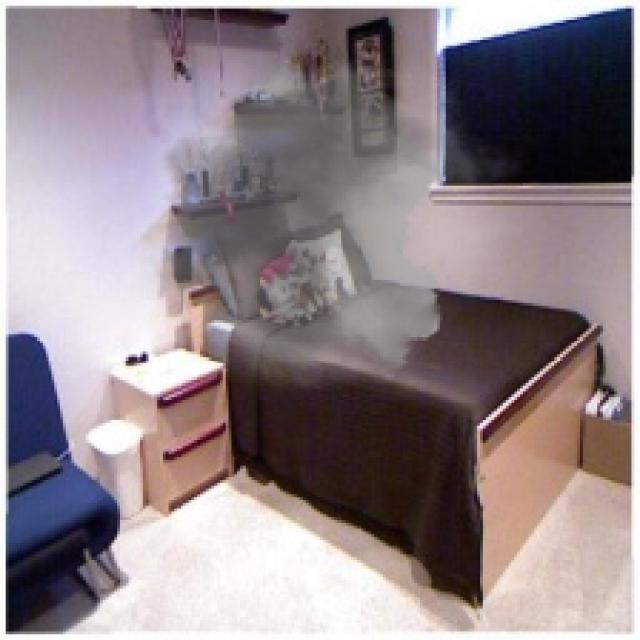smoke: (111, 46, 526, 391)
